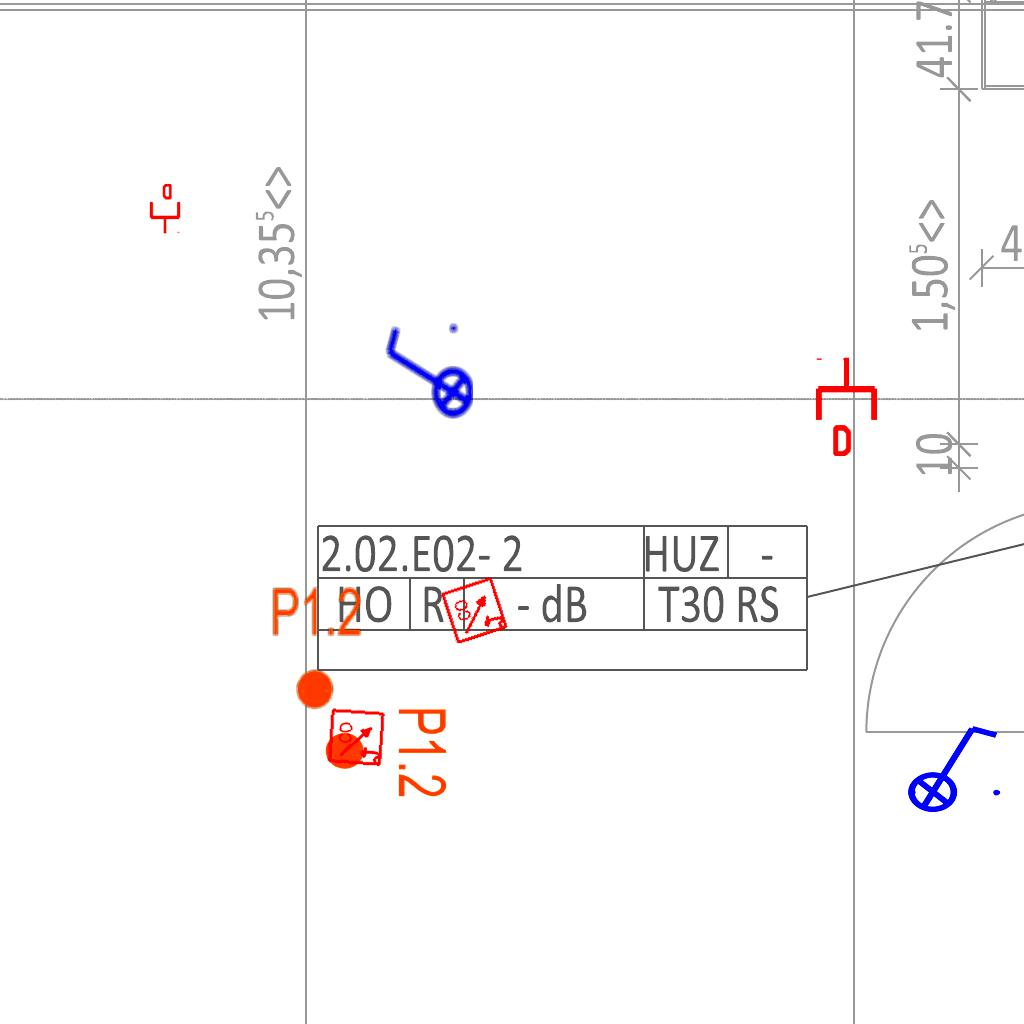Ausschalter_beleuchtet: (894, 718, 1006, 814), (379, 319, 475, 431)
Datenanschluss_einfach: (812, 356, 881, 456), (148, 184, 182, 234)
Downlight_LED_Einbauleuchten_Flur: (322, 706, 450, 799), (270, 584, 363, 712)
ROA_Rauchmelder_optisch_mit_Signalgeber_(Sockelsirene): (439, 574, 511, 646), (327, 707, 387, 767)
